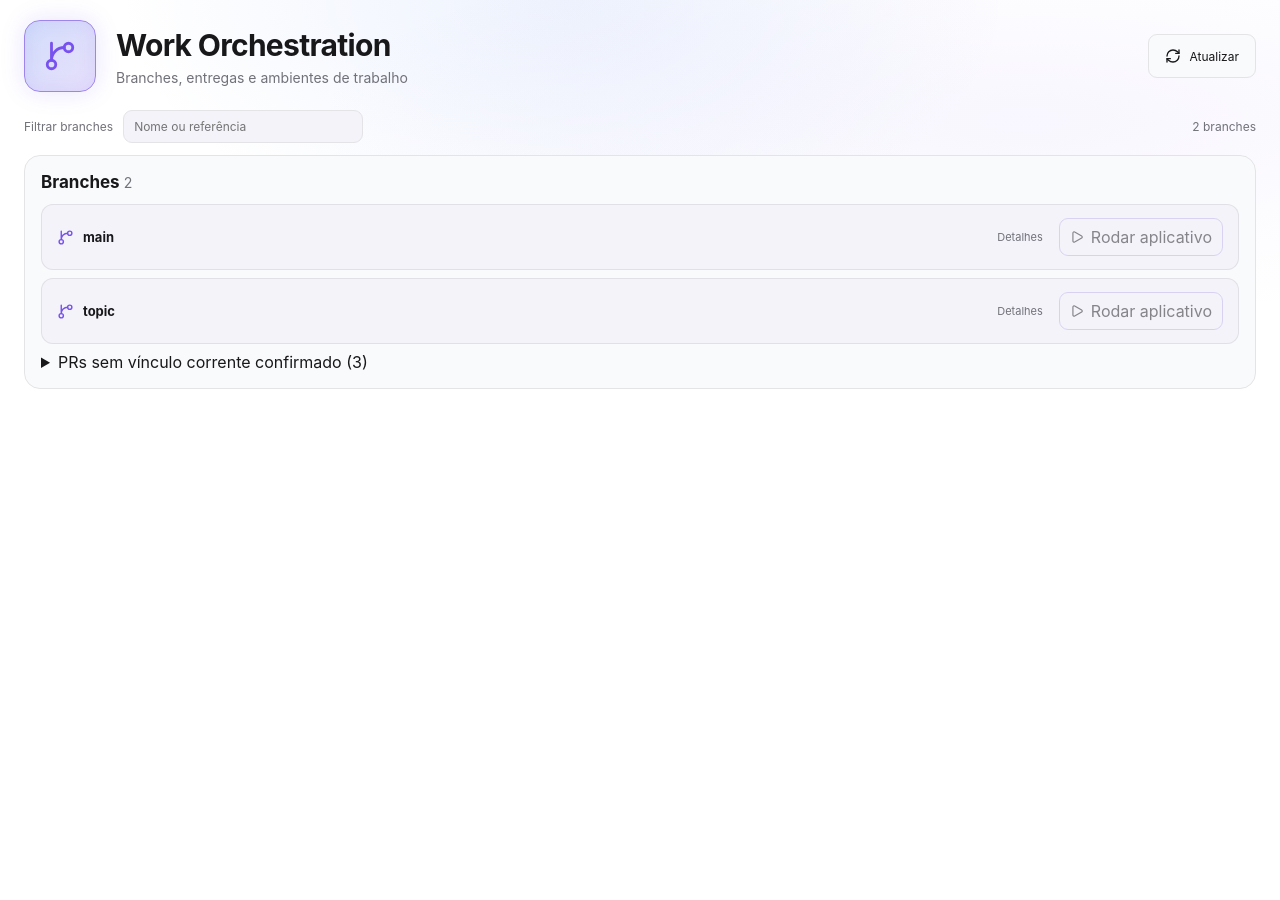
Test: keeps candidates distinct from confirmed origins and filters obsolete branch revisions
The width and height of the screenshot is (1280, 900).
Click the text "topic". click: (99, 311)
box: [83, 303, 115, 319]
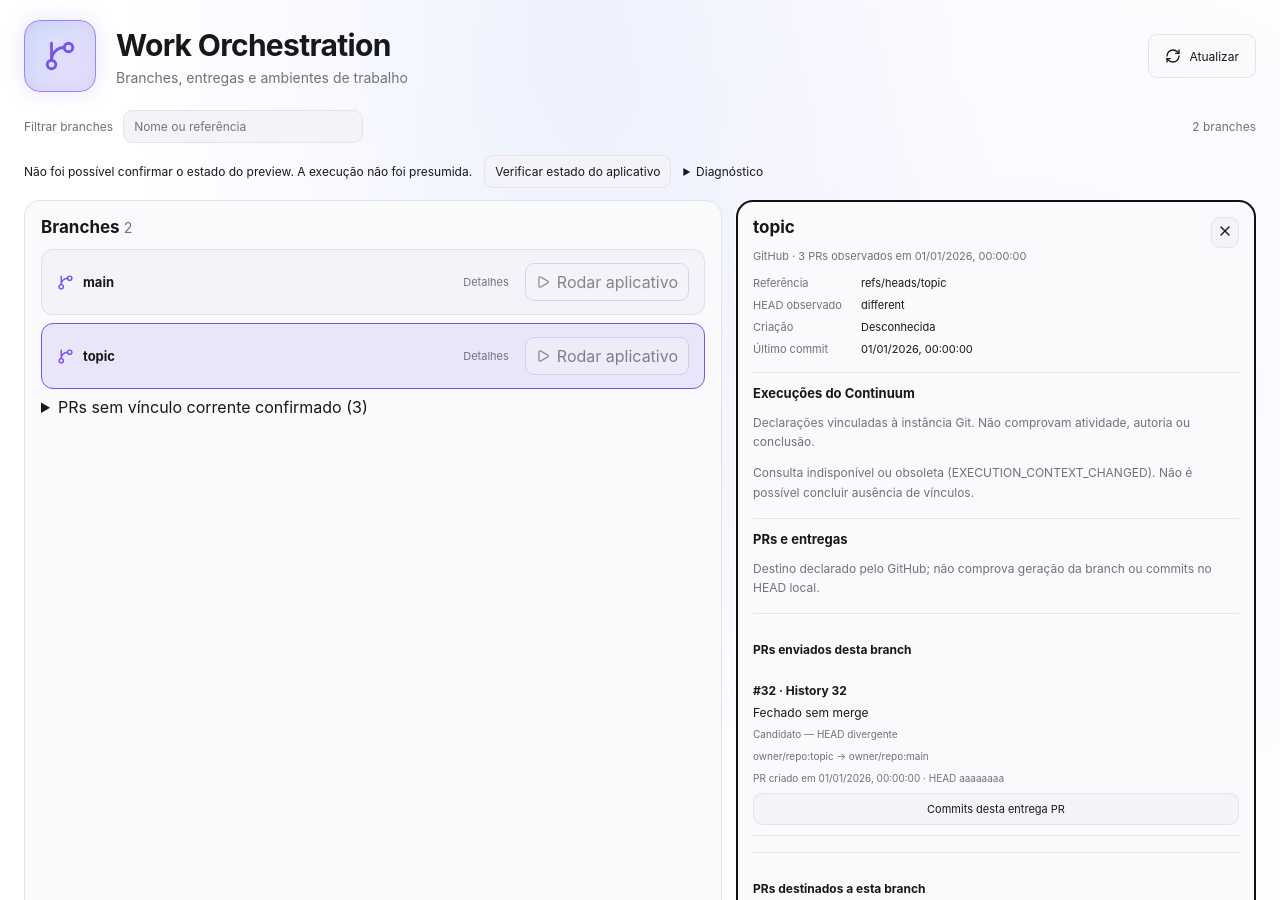
Now the text "Candidato — HEAD divergente" is shown, box [753, 728, 898, 740]
